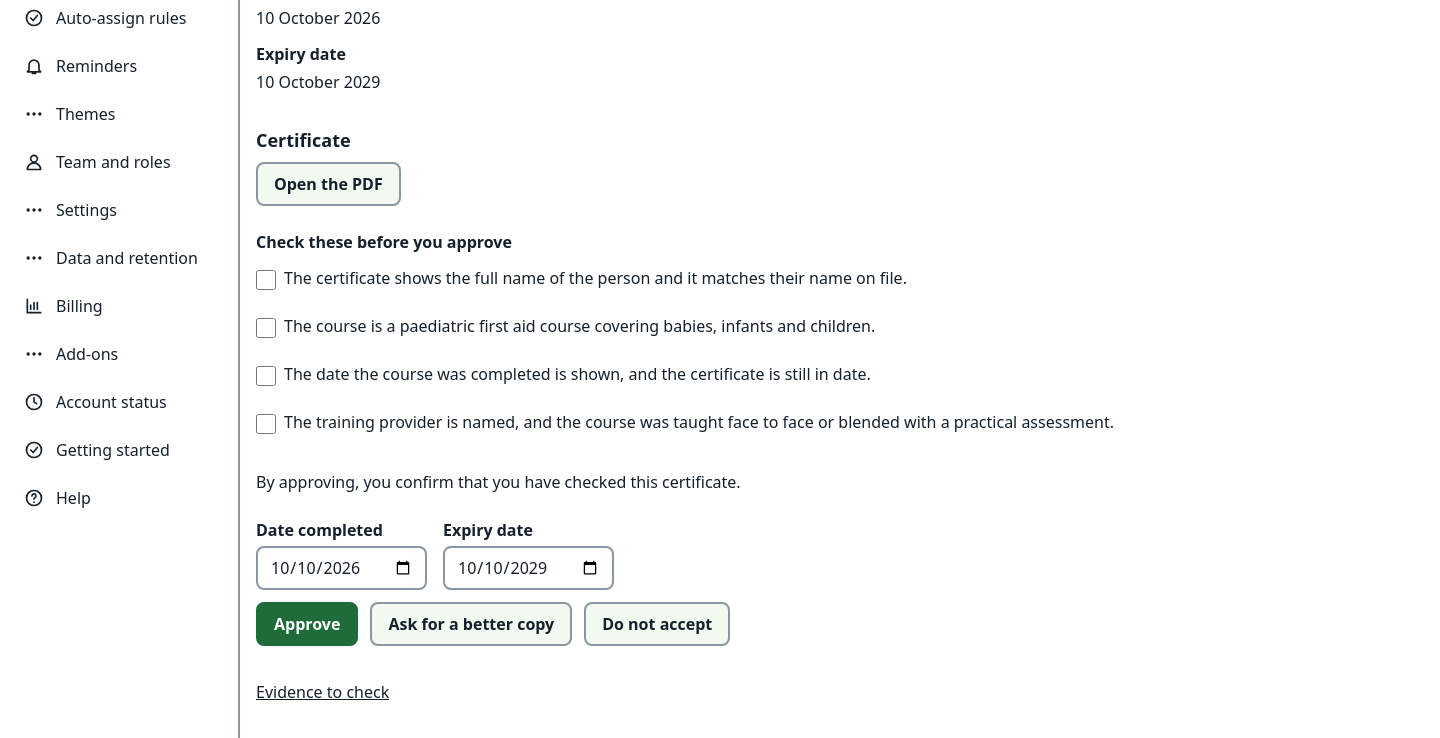
C27 Evidence to check: review › approves with a corrected expiry date and records it on the Evidence
(page scrolled)
Type "2029-09-30" into the date field labelled "Expiry date" at (528, 568), box 443,546 -> 614,590
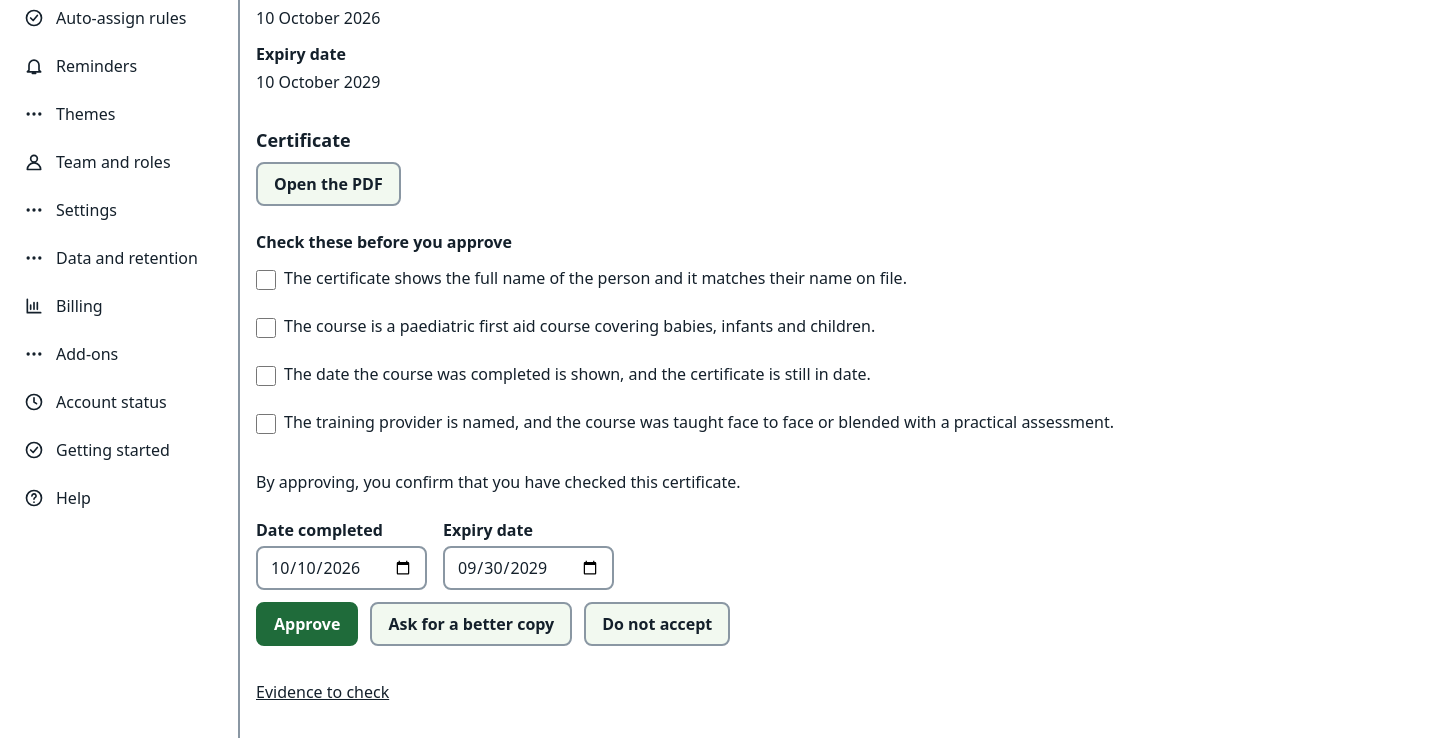
Click the button "Approve" at (307, 624), box 256,602 -> 358,646
(page scrolled)
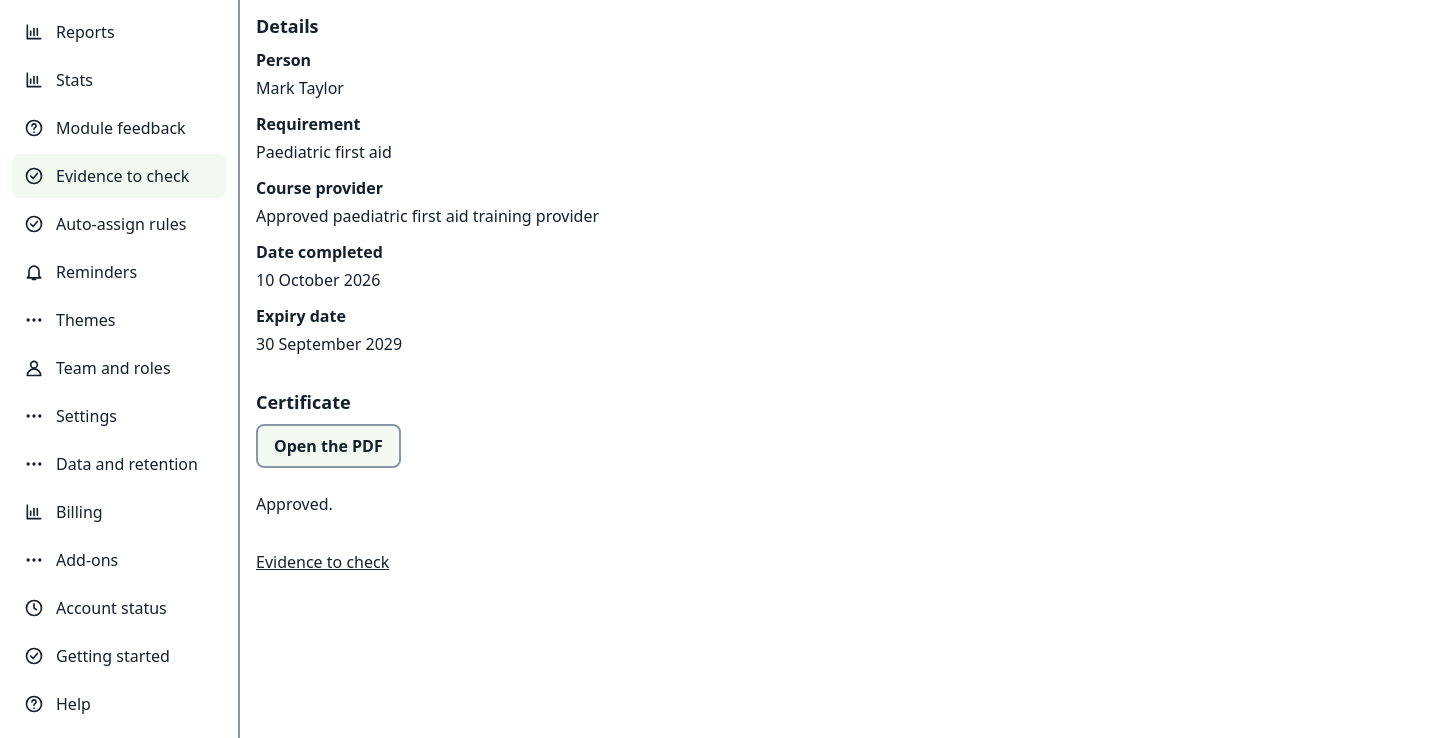
Result: the message "Approved." is shown at 256,493 -> 333,515
